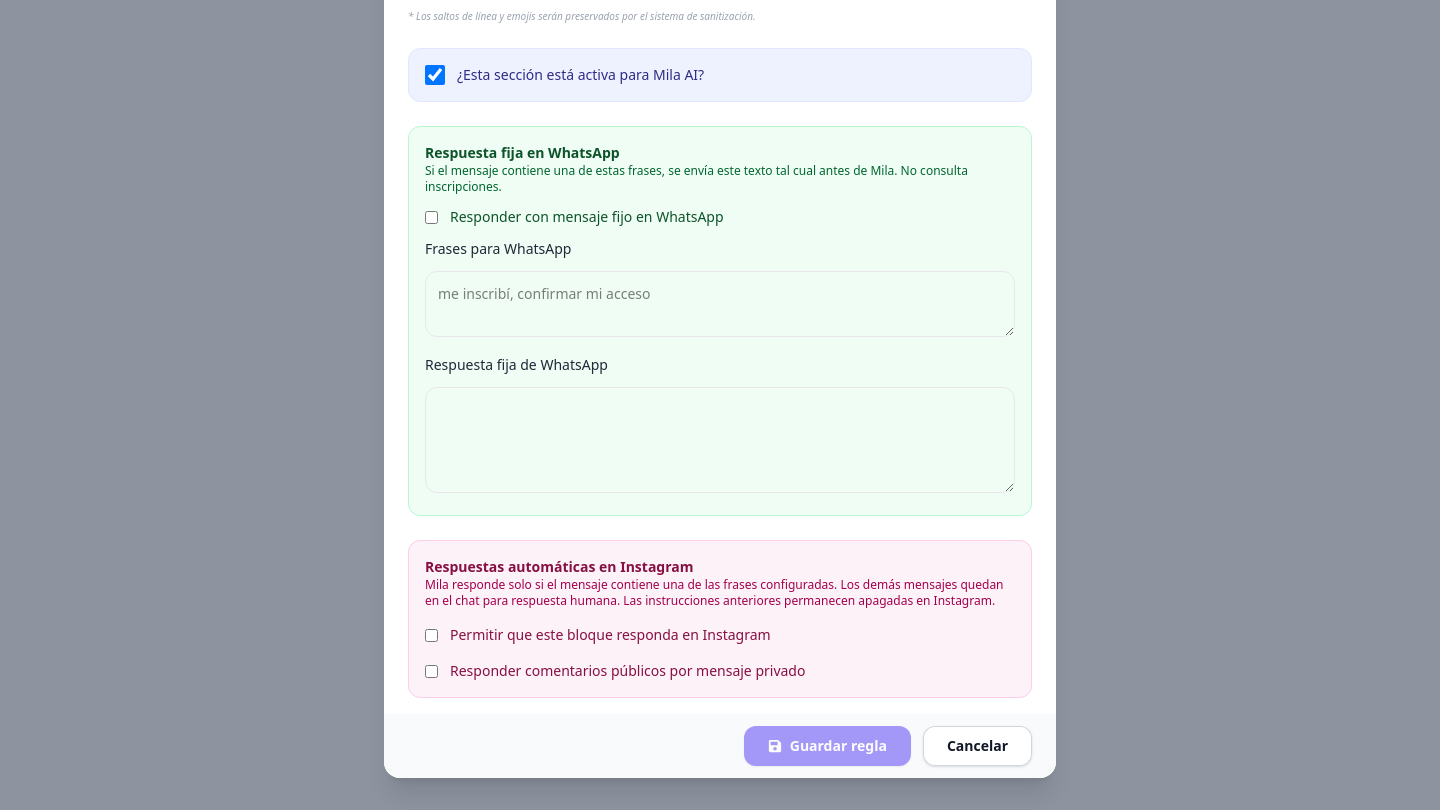
Test: InstructionModal › Instagram reply mode › selects Gemini once Instagram is turned on for a new rule
The image size is (1440, 810).
(page scrolled)
Click the checkbox labelled "Permitir que este bloque responda en Instagram".
click(432, 635)  # box x1=425 y1=628 x2=438 y2=642
(page scrolled)
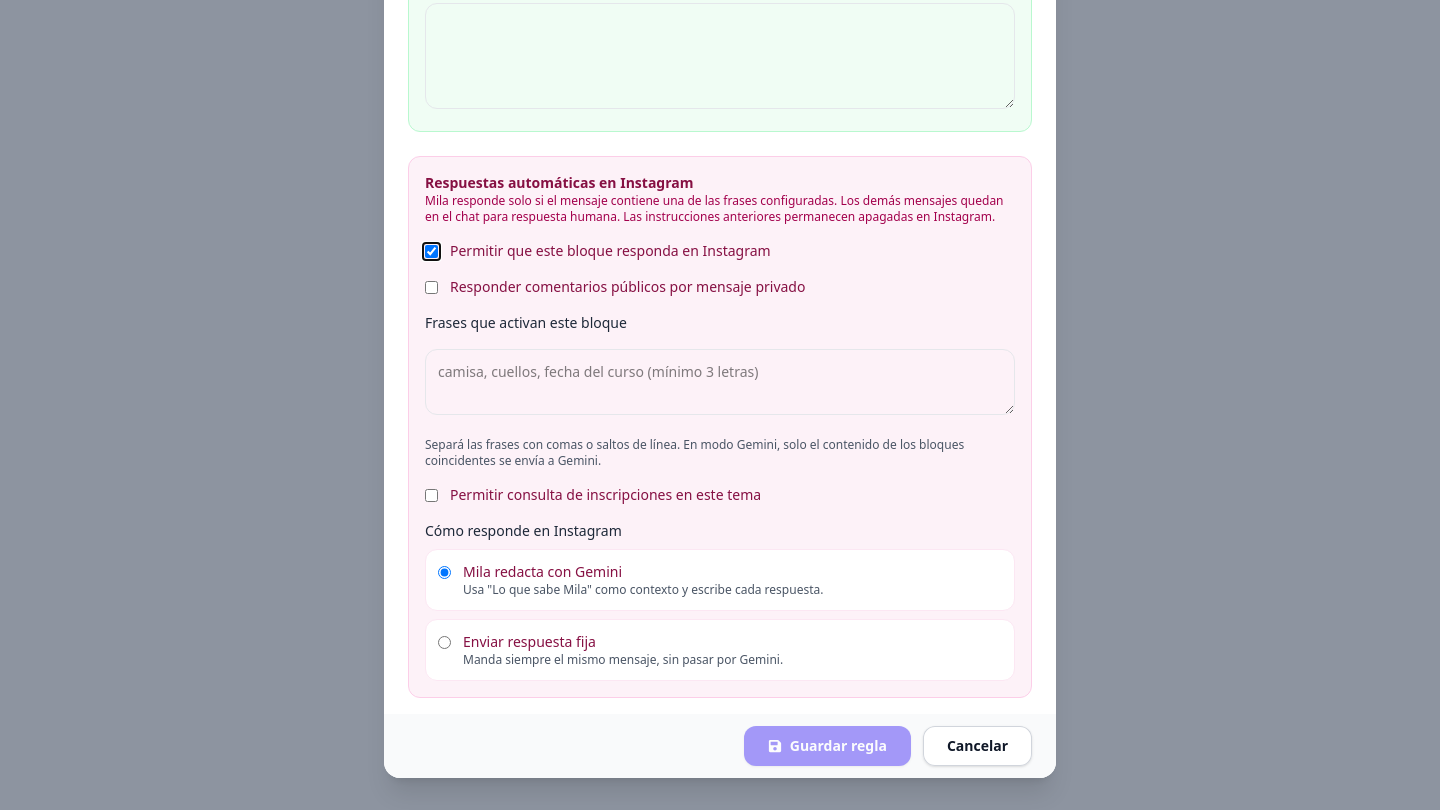
Result: the radio button labelled "Mila redacta con Gemini" is checked at x1=438 y1=566 x2=451 y2=579
